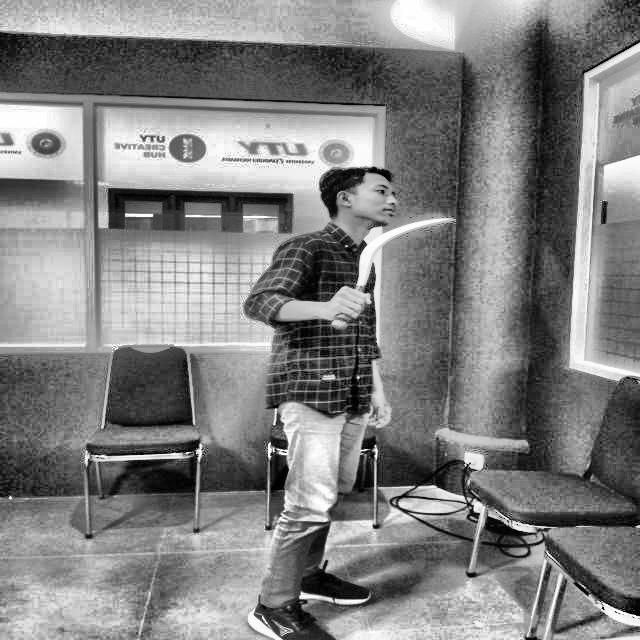celurit: (326, 203, 470, 335)
